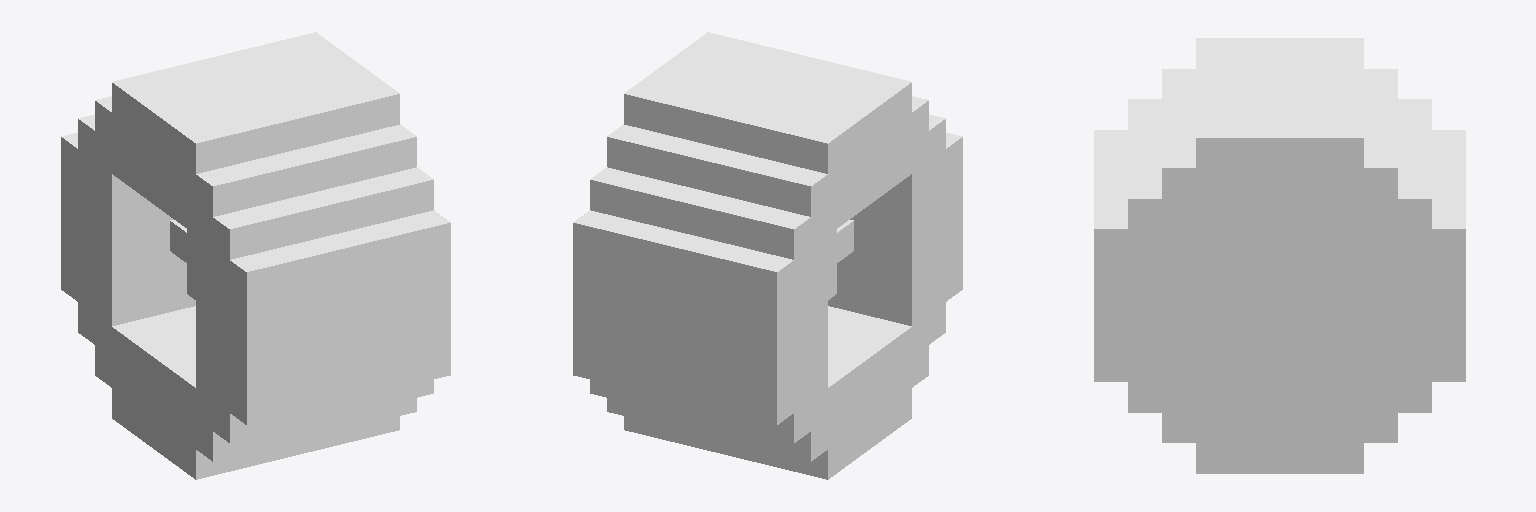
The model's file is BMW-ORANGE-0.obj.
3 views of the same model, side by side, from view 1: azimuth 30°, elevation 25°; view 2: azimuth 150°, elevation 25°; view 3: azimuth 270°, elevation 25° (orthographic).
Parts seen in each view (by area): view 1: object 1; view 2: object 1; view 3: object 1.
Part boxes in pixels (left/top/right/bottom): object 1: left=61, top=32, right=450, bottom=479; object 1: left=573, top=32, right=962, bottom=479; object 1: left=1094, top=38, right=1465, bottom=473.
Bounding box in the file's own units: 7 × 11 × 11.